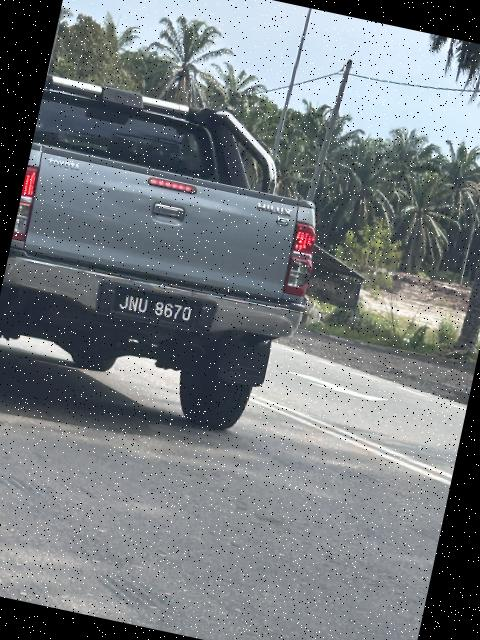License_Plate: (99, 283, 209, 333)
car: (1, 59, 344, 445)
